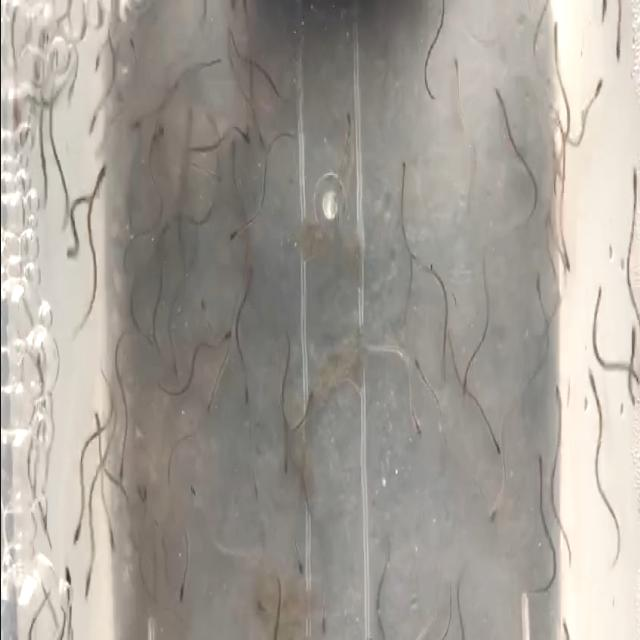active_glass_eel: (105, 505, 121, 563), (77, 108, 96, 152), (622, 149, 638, 197), (547, 12, 563, 60), (488, 78, 506, 118), (319, 595, 335, 640), (548, 162, 564, 202), (585, 362, 597, 415), (406, 407, 424, 442), (559, 233, 575, 271), (486, 499, 503, 534), (144, 126, 165, 154), (232, 121, 252, 150), (403, 258, 426, 282), (95, 148, 107, 194), (58, 186, 70, 232), (122, 34, 138, 68), (92, 38, 108, 72), (62, 548, 72, 602), (543, 211, 556, 251), (226, 222, 246, 248), (457, 371, 473, 403), (449, 52, 467, 80), (615, 36, 627, 76), (292, 542, 304, 582), (141, 482, 156, 514), (80, 564, 92, 604), (276, 452, 292, 482), (226, 139, 239, 175), (66, 234, 77, 276), (532, 271, 544, 309), (177, 570, 189, 608), (534, 450, 548, 481), (129, 110, 145, 137), (412, 349, 426, 379), (560, 606, 572, 640), (238, 380, 250, 414), (70, 518, 82, 552), (626, 321, 636, 361), (554, 376, 564, 416), (158, 306, 168, 346), (342, 108, 352, 148), (196, 296, 210, 322), (190, 479, 203, 507), (215, 322, 231, 344), (588, 75, 604, 96), (116, 452, 125, 489), (150, 253, 160, 286), (134, 478, 142, 519), (597, 0, 609, 27), (492, 432, 504, 458), (200, 392, 212, 418), (397, 158, 408, 186)
